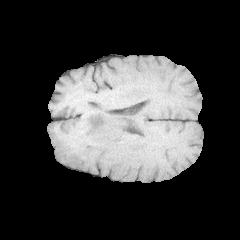glioma: (66, 113, 128, 150)
